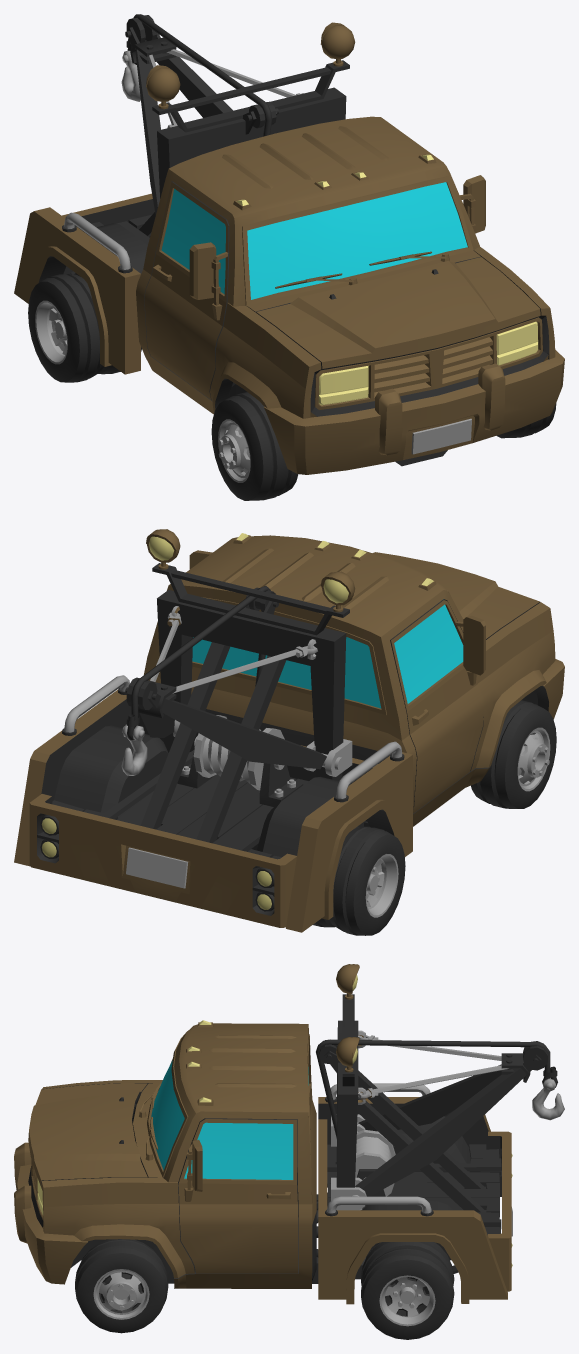
File: TowTruck.fbx
3 views of the same model, one above another, from view 1: azimuth 30°, elevation 25°; view 2: azimuth 150°, elevation 25°; view 3: azimuth 270°, elevation 25° (orthographic). The views are drawn at different scales.
Visible parts, largest first — view 1: Body, v_Tow_truck.010, Bumper_F, TowTruckBed, Doors_FR, SideSkirt_RR, Fender_FR, Grill_F, Wheel_RR, Wheel_FR, Bumper_R, Fender_FL (+7 smaller); view 2: TowTruckBed, Body, Bumper_R, Doors_FR, SideSkirt_RR, Fender_FR, Wheel_RR, Wheel_FR, SideSkirt_RL, v_Tow_truck.010, Wire, Bumper_F (+3 smaller); view 3: TowTruckBed, Body, Doors_FL, SideSkirt_RL, v_Tow_truck.010, Fender_FL, Wheel_RL, Wheel_FL, Bumper_F, Bumper_R, SideSkirt_RR, Wire (+3 smaller).
Part boxes in pixels (box(x1,y1,x2,y2)): Body: box(70, 116, 480, 414); v_Tow_truck.010: box(256, 257, 540, 370); Bumper_F: box(264, 350, 564, 474); TowTruckBed: box(82, 14, 349, 273); Doors_FR: box(144, 181, 229, 399); SideSkirt_RR: box(14, 207, 140, 374); Fender_FR: box(210, 303, 321, 418); Grill_F: box(310, 317, 548, 417); Wheel_RR: box(28, 273, 141, 382); Wheel_FR: box(211, 392, 298, 500); Bumper_R: box(62, 193, 154, 274); Fender_FL: box(474, 247, 555, 359); TowTruckBed: box(52, 563, 377, 867); Body: box(58, 533, 490, 896); Bumper_R: box(29, 794, 296, 927); Doors_FR: box(390, 600, 485, 813); SideSkirt_RR: box(286, 741, 412, 932); Fender_FR: box(470, 602, 555, 771); Wheel_RR: box(313, 826, 405, 935); Wheel_FR: box(471, 700, 556, 808); SideSkirt_RL: box(14, 675, 131, 866); v_Tow_truck.010: box(372, 552, 540, 639); Wire: box(193, 715, 284, 790); Bumper_F: box(521, 659, 564, 719); TowTruckBed: box(316, 994, 557, 1234); Body: box(71, 1020, 501, 1288); Doors_FL: box(178, 1118, 297, 1273); SideSkirt_RL: box(318, 1196, 507, 1304); v_Tow_truck.010: box(28, 1083, 147, 1185); Fender_FL: box(41, 1177, 194, 1278); Wheel_RL: box(361, 1242, 454, 1339); Wheel_FL: box(75, 1239, 168, 1333); Bumper_F: box(14, 1142, 87, 1284); Bumper_R: box(488, 1131, 512, 1291); SideSkirt_RR: box(318, 1083, 490, 1160); Wire: box(355, 1129, 395, 1196).
Bounding box in the file's own units: 130 × 119 × 219.
